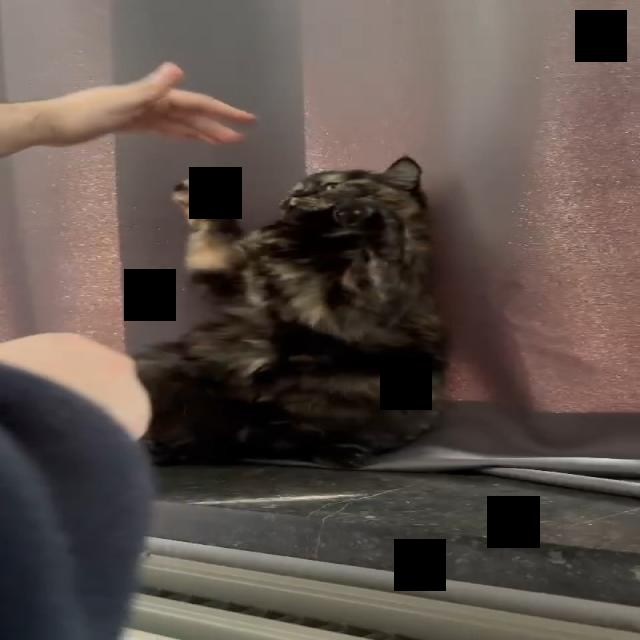authorized: (131, 154, 452, 468)
